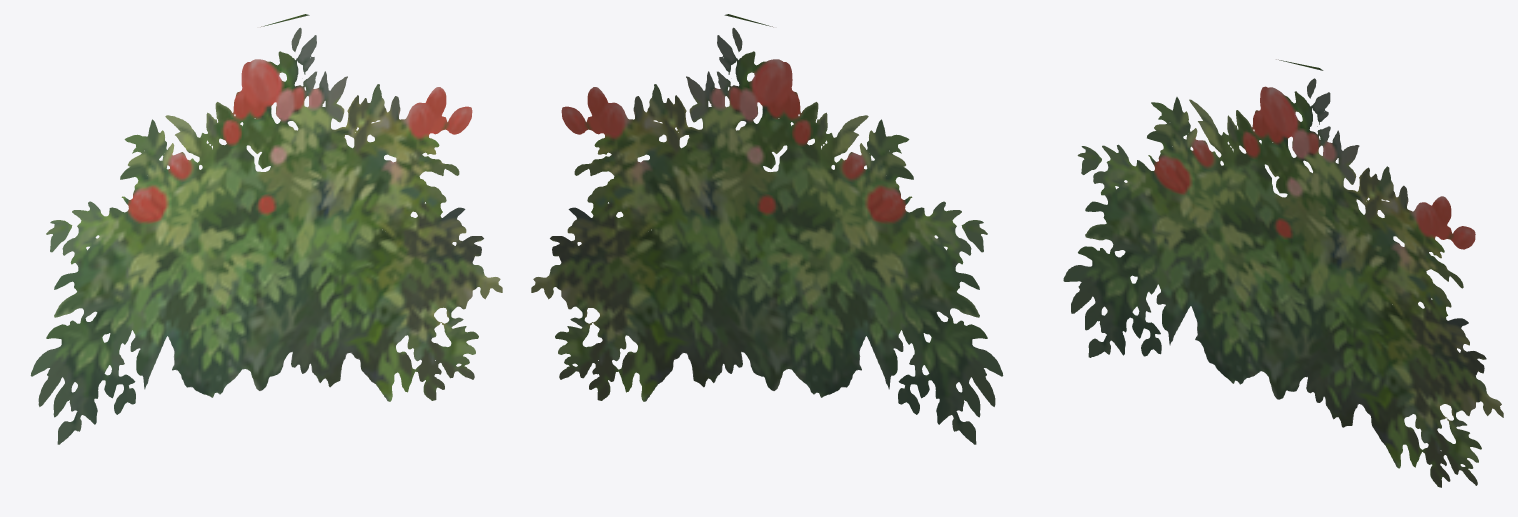
The model's file is Jiubajie_hua09_fbx.FBX.
The picture shows the model from 3 angles, left to right: view 1: azimuth 30°, elevation 25°; view 2: azimuth 150°, elevation 25°; view 3: azimuth 330°, elevation 25°; orthographic projection. The views are drawn at different scales.
Parts seen in each view (by area): view 1: Jiubajie_hua09_fbx; view 2: Jiubajie_hua09_fbx; view 3: Jiubajie_hua09_fbx.
Part boxes in pixels (left/top/right/bottom): Jiubajie_hua09_fbx: left=30, top=14, right=502, bottom=444; Jiubajie_hua09_fbx: left=531, top=14, right=1003, bottom=444; Jiubajie_hua09_fbx: left=1063, top=59, right=1503, bottom=487.
Bounding box in the file's own units: 1.01 × 0.8267 × 0.000102.
Materials: 1 (1 with a texture image).
